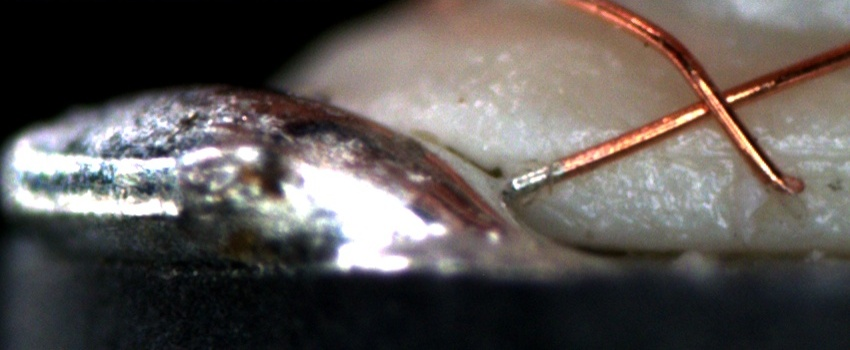CL: (675, 64, 751, 133)
DL: (636, 116, 850, 176)
TS: (505, 160, 566, 196)
